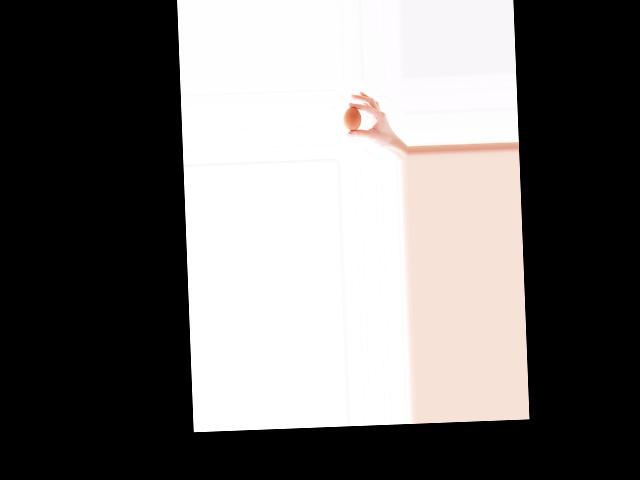egg: (342, 106, 361, 131)
